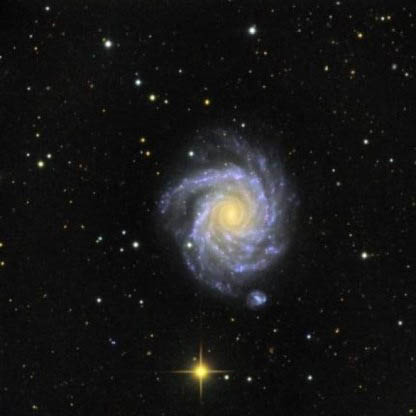NGC 1232: (143, 112, 308, 312)
